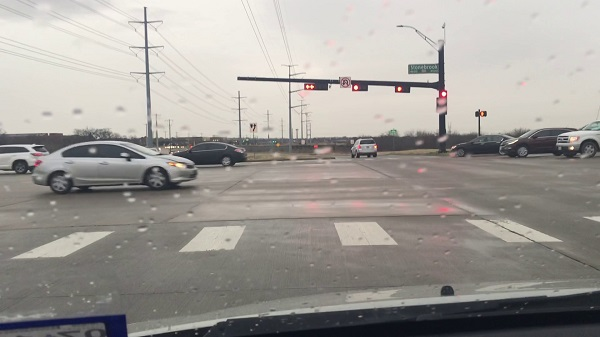car: (36, 140, 199, 194), (503, 127, 578, 158), (167, 139, 246, 164), (451, 136, 517, 158), (1, 143, 45, 174), (557, 122, 596, 156), (350, 139, 378, 159)
